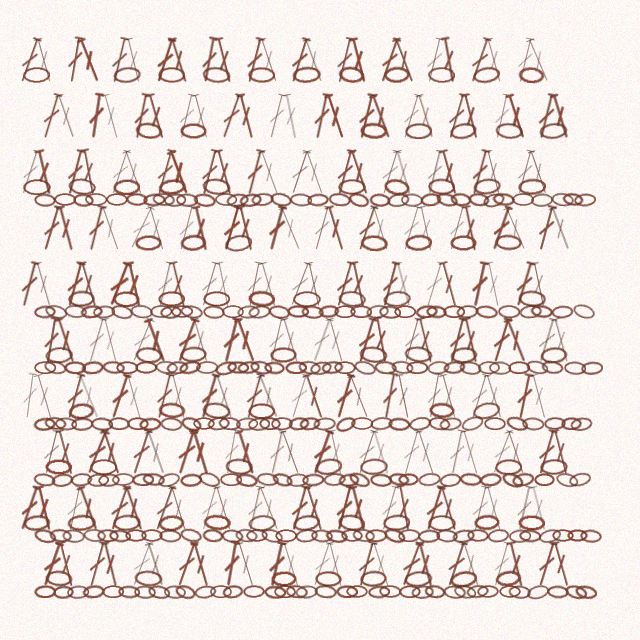chain: (472, 400, 501, 421), (472, 65, 501, 85), (449, 121, 478, 141), (224, 233, 253, 253), (292, 513, 321, 533), (449, 569, 478, 589), (383, 177, 411, 197), (202, 177, 231, 196), (359, 345, 388, 364), (404, 345, 433, 364), (202, 401, 231, 420), (314, 457, 343, 476), (337, 513, 366, 532), (135, 121, 163, 140), (68, 177, 96, 196), (473, 177, 501, 196), (202, 66, 231, 84), (539, 122, 568, 140), (404, 570, 433, 588), (338, 65, 365, 84), (495, 569, 522, 588), (113, 66, 141, 84), (495, 122, 523, 140), (158, 178, 186, 196), (360, 234, 388, 252), (338, 290, 366, 308), (383, 290, 411, 308), (45, 346, 73, 364), (135, 346, 163, 364), (450, 346, 478, 364), (540, 346, 568, 364), (23, 514, 51, 532), (248, 514, 276, 532), (347, 470, 372, 490), (500, 470, 525, 490), (292, 66, 321, 83), (67, 514, 96, 531), (134, 570, 163, 587), (518, 66, 545, 84), (68, 402, 95, 420), (158, 514, 185, 532), (334, 414, 358, 434), (518, 178, 546, 195), (518, 290, 546, 307), (158, 402, 186, 419), (225, 458, 253, 475), (360, 458, 388, 475), (113, 514, 141, 531), (203, 514, 231, 531), (45, 570, 73, 587), (460, 414, 485, 433), (197, 470, 222, 489), (382, 526, 407, 545), (360, 122, 387, 139), (428, 178, 455, 195), (180, 234, 207, 251), (405, 234, 432, 251), (495, 234, 522, 251), (68, 290, 95, 307), (248, 290, 275, 307), (180, 346, 207, 363), (383, 514, 410, 531), (360, 570, 387, 587), (572, 302, 596, 321), (505, 414, 529, 433), (23, 179, 51, 195), (338, 179, 366, 195), (293, 291, 321, 307), (540, 459, 568, 475), (428, 515, 456, 531), (384, 66, 410, 83), (429, 402, 455, 419), (474, 514, 500, 531), (23, 67, 50, 83), (158, 67, 185, 83), (248, 67, 275, 83), (428, 67, 455, 83), (180, 123, 207, 139), (405, 123, 432, 139), (113, 179, 140, 195), (347, 191, 371, 209), (435, 191, 459, 209), (482, 191, 506, 209), (135, 235, 162, 251), (450, 235, 477, 251), (113, 291, 140, 307), (158, 291, 185, 307), (203, 291, 230, 307), (44, 303, 68, 321), (110, 303, 134, 321), (270, 347, 297, 363), (214, 359, 238, 377), (353, 359, 377, 377), (248, 403, 275, 419), (45, 459, 72, 475), (90, 459, 117, 475), (495, 459, 522, 475), (157, 471, 181, 489), (555, 471, 579, 489), (518, 515, 545, 531), (33, 527, 57, 545), (260, 527, 284, 545), (538, 527, 562, 545), (315, 571, 342, 587), (526, 583, 550, 601), (564, 583, 588, 601), (271, 571, 297, 587), (180, 415, 203, 433), (271, 471, 294, 489), (174, 583, 197, 601), (269, 191, 293, 208), (43, 359, 67, 376), (178, 359, 202, 376), (249, 359, 273, 376), (525, 359, 549, 376), (408, 415, 432, 432), (511, 471, 535, 488), (568, 471, 592, 488), (179, 527, 203, 544), (309, 360, 333, 376), (147, 584, 171, 600), (453, 584, 477, 600), (574, 584, 598, 600), (193, 192, 216, 208), (226, 192, 249, 208), (239, 192, 262, 208), (387, 192, 410, 208), (180, 304, 203, 320), (248, 304, 271, 320), (268, 304, 291, 320), (475, 304, 498, 320), (459, 360, 482, 376), (439, 416, 462, 432), (570, 416, 593, 432), (33, 472, 56, 488), (51, 472, 74, 488), (235, 472, 258, 488), (439, 472, 462, 488), (325, 528, 348, 544), (452, 528, 475, 544), (194, 584, 217, 600), (152, 192, 175, 207), (251, 192, 274, 207), (328, 192, 351, 207), (492, 192, 515, 207), (551, 192, 574, 207), (64, 304, 87, 319), (80, 304, 103, 319), (130, 304, 153, 319), (366, 304, 389, 319), (415, 304, 438, 319), (456, 304, 479, 319), (519, 304, 542, 319), (530, 304, 553, 319), (81, 360, 104, 375), (102, 360, 125, 375), (155, 360, 178, 375), (166, 360, 189, 375), (237, 360, 260, 375), (298, 360, 321, 375), (321, 360, 344, 375), (374, 360, 397, 375), (391, 360, 414, 375), (427, 360, 450, 375), (443, 360, 466, 375), (541, 360, 564, 375), (44, 416, 67, 431), (207, 416, 230, 431), (218, 416, 241, 431), (370, 416, 393, 431), (428, 416, 451, 431), (70, 472, 93, 487), (142, 472, 165, 487), (256, 472, 279, 487), (323, 472, 346, 487), (418, 472, 441, 487), (459, 472, 482, 487), (479, 472, 502, 487), (49, 528, 72, 543), (83, 528, 106, 543), (235, 528, 258, 543), (295, 528, 318, 543), (352, 528, 375, 543), (487, 528, 510, 543), (82, 584, 105, 599), (285, 584, 308, 599), (314, 584, 337, 599), (466, 584, 489, 599), (420, 192, 442, 207), (450, 192, 472, 207), (468, 192, 490, 207), (562, 192, 584, 207), (318, 304, 340, 319), (288, 416, 310, 431), (299, 416, 321, 431), (388, 472, 410, 487), (202, 528, 224, 543), (222, 584, 244, 599), (424, 584, 446, 599), (237, 305, 260, 319), (301, 305, 324, 319), (551, 305, 574, 319), (33, 417, 56, 431), (160, 417, 183, 431), (313, 417, 336, 431), (286, 473, 309, 487), (62, 529, 85, 543), (221, 529, 244, 543), (295, 585, 318, 599), (411, 585, 434, 599), (443, 585, 466, 599), (508, 585, 531, 599), (34, 193, 56, 207), (143, 193, 165, 207), (164, 193, 186, 207), (176, 193, 198, 207), (290, 193, 312, 207), (307, 193, 329, 207), (369, 193, 391, 207), (401, 193, 423, 207), (531, 193, 553, 207), (574, 193, 596, 207), (34, 305, 56, 319), (93, 305, 115, 319), (160, 305, 182, 319), (203, 305, 225, 319), (379, 305, 401, 319), (489, 361, 511, 375), (564, 361, 586, 375), (581, 361, 603, 375), (55, 417, 77, 431), (71, 417, 93, 431), (91, 417, 113, 431), (139, 417, 161, 431), (236, 417, 258, 431), (248, 417, 270, 431), (388, 417, 410, 431), (522, 417, 544, 431), (87, 473, 109, 487), (98, 473, 120, 487), (180, 473, 202, 487), (302, 473, 324, 487), (338, 473, 360, 487), (370, 473, 392, 487), (109, 529, 131, 543), (159, 529, 181, 543), (311, 529, 333, 543), (418, 529, 440, 543), (436, 529, 458, 543), (509, 529, 531, 543), (519, 529, 541, 543), (580, 529, 602, 543), (67, 585, 89, 599), (118, 585, 140, 599), (134, 585, 156, 599), (164, 585, 186, 599), (264, 585, 286, 599), (368, 585, 390, 599), (547, 585, 569, 599), (73, 193, 94, 207), (426, 305, 447, 319), (264, 361, 285, 375), (53, 585, 74, 599), (54, 193, 76, 206), (85, 193, 107, 206), (106, 193, 128, 206), (126, 193, 148, 206), (215, 193, 237, 206), (512, 193, 534, 206), (150, 305, 172, 318), (171, 305, 193, 318), (222, 305, 244, 318), (287, 305, 309, 318), (334, 305, 356, 318), (350, 305, 372, 318), (394, 305, 416, 318), (443, 305, 465, 318), (498, 305, 520, 318), (34, 361, 56, 374), (64, 361, 86, 374), (116, 361, 138, 374), (135, 361, 157, 374), (196, 361, 218, 374), (227, 361, 249, 374), (285, 361, 307, 374), (334, 361, 356, 374), (406, 361, 428, 374), (478, 361, 500, 374), (508, 361, 530, 374), (108, 417, 130, 430), (127, 417, 149, 430), (193, 417, 215, 430), (259, 417, 281, 430), (271, 417, 293, 430), (351, 417, 373, 430), (484, 417, 506, 430), (544, 417, 566, 430), (112, 473, 134, 486), (132, 473, 154, 486), (220, 473, 242, 486), (97, 529, 119, 542), (125, 529, 147, 542), (141, 529, 163, 542), (246, 529, 268, 542), (275, 529, 297, 542), (341, 529, 363, 542), (365, 529, 387, 542), (398, 529, 420, 542), (467, 529, 489, 542), (552, 529, 574, 542), (34, 585, 56, 598), (102, 585, 124, 598), (210, 585, 232, 598), (243, 585, 265, 598), (274, 585, 296, 598), (336, 585, 358, 598), (346, 585, 368, 598), (379, 585, 401, 598), (399, 585, 421, 598), (477, 585, 499, 598), (499, 585, 521, 598), (561, 417, 582, 430), (398, 473, 419, 486), (534, 473, 555, 486), (567, 529, 588, 542)
double: (125, 204, 158, 251), (126, 316, 158, 364), (73, 372, 105, 420), (523, 36, 554, 84), (275, 204, 306, 252), (500, 204, 531, 252), (545, 204, 576, 252), (104, 260, 135, 308), (253, 372, 284, 420), (396, 540, 427, 588), (74, 36, 104, 84), (389, 36, 419, 84), (465, 36, 495, 84), (366, 92, 396, 140), (164, 148, 194, 196), (254, 148, 284, 196), (299, 148, 329, 196), (285, 260, 315, 308), (141, 316, 171, 364), (172, 316, 202, 364), (307, 316, 337, 364), (501, 316, 531, 364), (299, 372, 329, 420), (344, 372, 374, 420), (82, 428, 112, 476), (141, 428, 171, 476), (307, 428, 337, 476), (487, 428, 517, 476), (254, 484, 284, 532), (37, 540, 67, 588), (127, 540, 157, 588), (15, 36, 44, 84), (254, 36, 283, 84), (299, 36, 328, 84), (375, 36, 404, 84), (217, 92, 246, 140), (321, 92, 350, 140), (119, 148, 148, 196), (285, 148, 314, 196), (524, 148, 553, 196), (96, 204, 125, 252), (487, 204, 516, 252), (231, 316, 260, 364), (127, 428, 156, 476), (172, 428, 201, 476), (276, 428, 305, 476), (15, 484, 44, 532), (74, 484, 103, 532), (105, 484, 134, 532), (150, 484, 179, 532), (141, 540, 170, 588), (172, 540, 201, 588), (442, 540, 471, 588), (151, 36, 179, 84), (165, 36, 193, 84), (52, 92, 80, 140), (142, 92, 170, 140), (502, 92, 530, 140), (16, 148, 44, 196), (106, 148, 134, 196), (345, 148, 373, 196), (376, 148, 404, 196), (142, 204, 170, 252), (218, 204, 246, 252), (353, 204, 381, 252), (52, 316, 80, 364), (533, 316, 561, 364), (30, 372, 58, 420), (106, 372, 134, 420), (210, 372, 238, 420), (480, 372, 508, 420), (97, 428, 125, 476), (232, 428, 260, 476), (353, 428, 381, 476), (367, 428, 395, 476), (412, 428, 440, 476), (502, 428, 530, 476), (120, 484, 148, 532), (300, 484, 328, 532), (232, 540, 260, 588), (277, 540, 305, 588), (308, 540, 336, 588), (367, 540, 395, 588), (457, 540, 485, 588), (286, 36, 313, 84), (38, 92, 65, 140), (398, 92, 425, 140), (412, 92, 439, 140), (443, 92, 470, 140), (547, 92, 574, 140), (196, 148, 223, 196), (390, 148, 417, 196), (38, 204, 65, 252), (322, 204, 349, 252), (367, 204, 394, 252), (398, 204, 425, 252), (533, 204, 560, 252), (30, 260, 57, 308), (75, 260, 102, 308), (196, 260, 223, 308), (255, 260, 282, 308), (331, 260, 358, 308), (390, 260, 417, 308), (421, 260, 448, 308), (511, 260, 538, 308), (83, 316, 110, 364), (187, 316, 214, 364), (277, 316, 304, 364), (322, 316, 349, 364), (353, 316, 380, 364), (488, 316, 515, 364), (196, 372, 223, 420), (241, 372, 268, 420), (286, 372, 313, 420), (331, 372, 358, 420), (466, 372, 493, 420), (52, 428, 79, 476), (187, 428, 214, 476), (398, 428, 425, 476), (457, 428, 484, 476), (533, 428, 560, 476), (165, 484, 192, 532), (196, 484, 223, 532), (210, 484, 237, 532), (286, 484, 313, 532), (331, 484, 358, 532), (376, 484, 403, 532), (421, 484, 448, 532), (435, 484, 462, 532), (187, 540, 214, 588), (353, 540, 380, 588), (488, 540, 515, 588), (533, 540, 560, 588), (31, 36, 57, 84), (211, 36, 237, 84), (481, 36, 507, 84), (512, 36, 538, 84), (98, 92, 124, 140), (188, 92, 214, 140), (233, 92, 259, 140), (31, 148, 57, 196), (62, 148, 88, 196), (152, 148, 178, 196), (211, 148, 237, 196), (242, 148, 268, 196), (332, 148, 358, 196), (436, 148, 462, 196), (467, 148, 493, 196), (512, 148, 538, 196), (53, 204, 79, 252), (264, 204, 290, 252), (309, 204, 335, 252), (444, 204, 470, 252), (62, 260, 88, 308), (377, 260, 403, 308), (436, 260, 462, 308), (399, 316, 425, 364), (444, 316, 470, 364), (548, 316, 574, 364), (62, 372, 88, 420), (121, 372, 147, 420), (436, 372, 462, 420), (526, 372, 552, 420), (467, 484, 493, 532), (481, 484, 507, 532), (526, 484, 552, 532), (53, 540, 79, 588), (84, 540, 110, 588), (503, 540, 529, 588), (548, 540, 574, 588), (107, 36, 132, 84), (121, 36, 146, 84), (242, 36, 267, 84), (332, 36, 357, 84), (346, 36, 371, 84), (422, 36, 447, 84), (174, 92, 199, 140), (264, 92, 289, 140), (354, 92, 379, 140), (458, 92, 483, 140), (534, 92, 559, 140), (422, 148, 447, 196), (481, 148, 506, 196), (84, 204, 109, 252), (174, 204, 199, 252), (233, 204, 258, 252), (17, 260, 42, 308), (166, 260, 191, 308), (346, 260, 371, 308), (467, 260, 492, 308), (98, 316, 123, 364), (219, 316, 244, 364), (264, 316, 289, 364), (413, 316, 438, 364), (152, 372, 177, 420), (166, 372, 191, 420), (39, 428, 64, 476), (548, 428, 573, 476), (62, 484, 87, 532), (346, 484, 371, 532), (512, 484, 537, 532), (98, 540, 123, 588), (323, 540, 348, 588), (413, 540, 438, 588), (279, 92, 303, 140), (310, 92, 334, 140), (490, 92, 514, 140), (189, 204, 213, 252), (414, 204, 438, 252), (122, 260, 146, 308), (153, 260, 177, 308), (302, 260, 326, 308), (527, 260, 551, 308), (459, 316, 483, 364), (265, 428, 289, 476), (324, 428, 348, 476), (445, 428, 469, 476), (32, 484, 56, 532), (243, 484, 267, 532), (265, 540, 289, 588), (130, 92, 153, 140), (459, 204, 482, 252), (212, 260, 235, 308), (243, 260, 266, 308), (482, 260, 505, 308), (40, 316, 63, 364), (392, 372, 415, 420), (513, 372, 536, 420), (198, 36, 221, 83), (77, 148, 100, 195), (423, 372, 446, 419), (220, 428, 243, 475), (64, 36, 86, 83), (438, 36, 460, 83), (370, 316, 392, 363), (379, 372, 401, 419), (393, 484, 415, 531), (221, 540, 243, 587), (86, 92, 107, 139), (20, 372, 40, 419)
